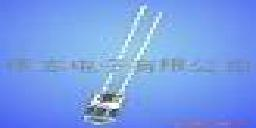LED: (76, 81, 130, 128)
